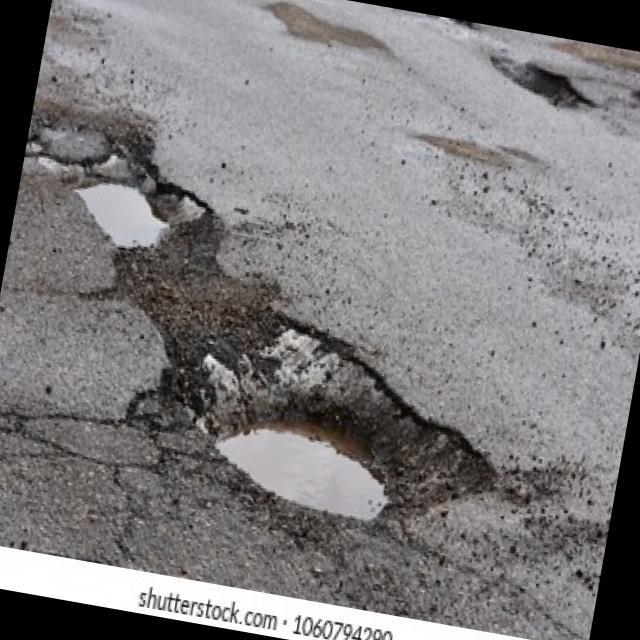Pothole: (142, 302, 440, 548), (44, 126, 207, 280), (482, 46, 596, 116), (369, 4, 478, 44)
